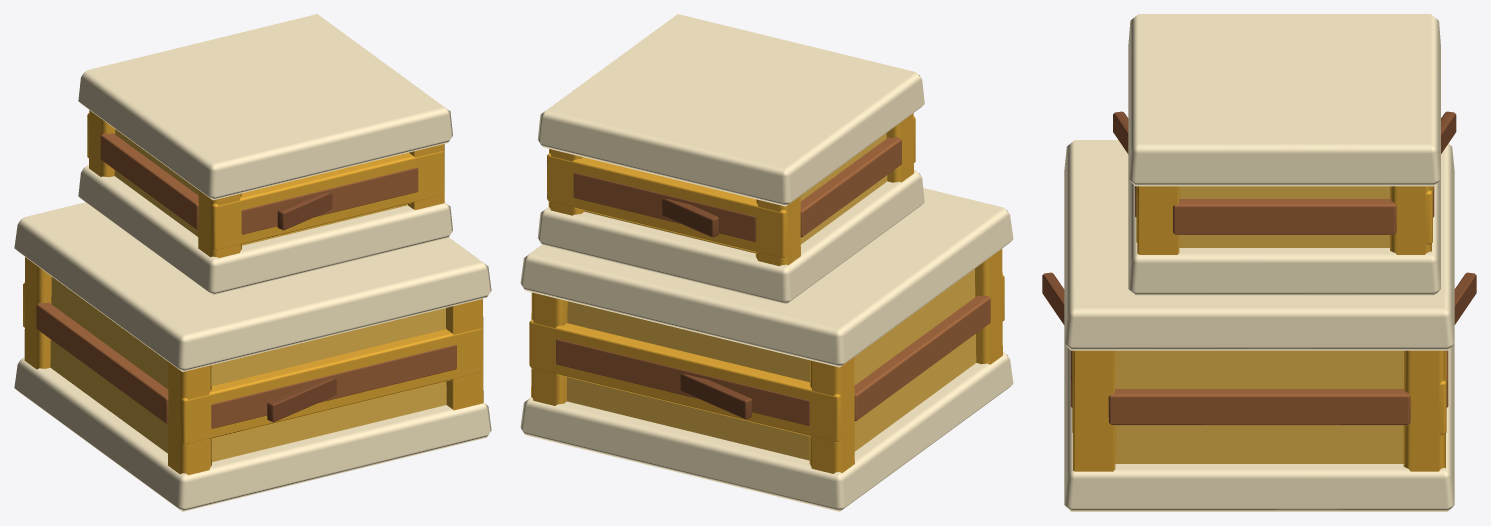
The model's file is mid_gate_box.glb.
The picture shows the model from 3 angles, left to right: view 1: azimuth 30°, elevation 25°; view 2: azimuth 150°, elevation 25°; view 3: azimuth 270°, elevation 25°; orthographic projection. The views are drawn at different scales.
Visible parts, largest first — view 1: mid_gate_box; view 2: mid_gate_box; view 3: mid_gate_box.
Part boxes in pixels (x1,y1,x2,y2): mid_gate_box: (14, 14, 491, 511); mid_gate_box: (520, 14, 1013, 511); mid_gate_box: (1042, 14, 1476, 511).
Bounding box in the file's own units: 1.33 × 1.27 × 1.38.
